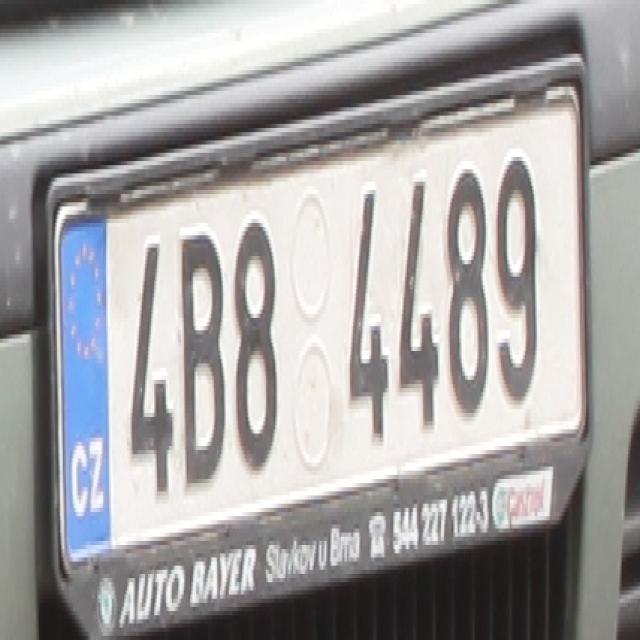4: (127, 239, 178, 492), (347, 190, 390, 454), (399, 178, 440, 425)
8: (235, 219, 278, 471), (449, 169, 489, 417)
9: (495, 149, 538, 392)
B: (181, 227, 224, 483)
